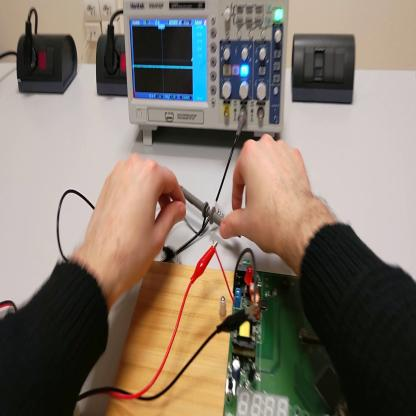hand: (81, 152, 186, 295), (223, 133, 314, 261)
low voltage board: (218, 250, 352, 416)
oscilloscope: (126, 1, 291, 147)
oscilloscope probe tip: (182, 182, 226, 223)
socket: (18, 32, 77, 99), (96, 33, 128, 98)
working area: (105, 260, 238, 415)
